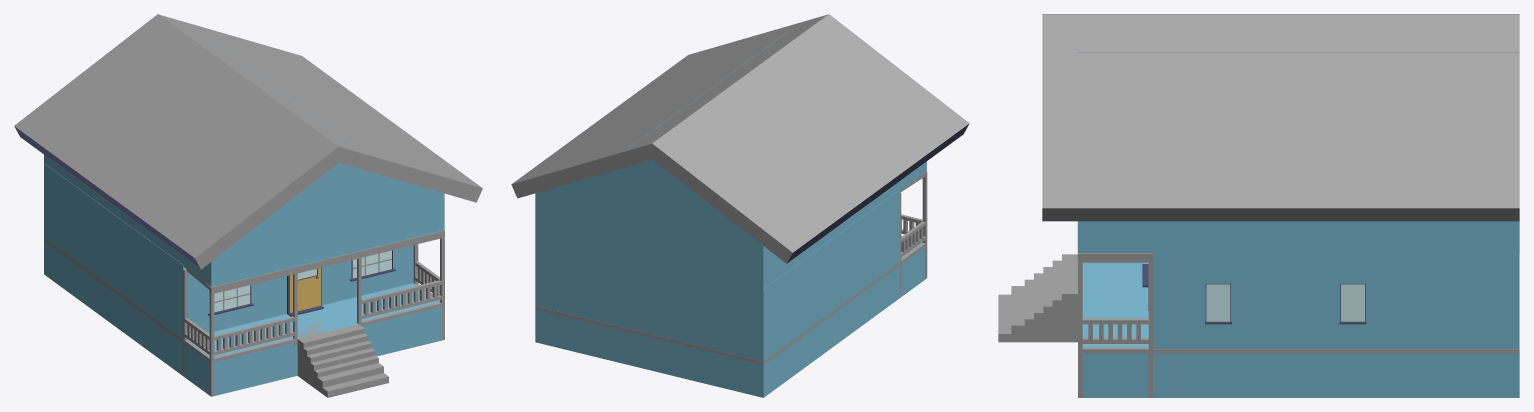
Rendered from House.fbx.
3 renders of one model, left to right at view 1: azimuth 30°, elevation 25°; view 2: azimuth 150°, elevation 25°; view 3: azimuth 270°, elevation 25°, orthographic. The views are drawn at different scales.
Visible parts, largest first — view 1: polySurface136, polySurface150, polySurface88, polySurface76, polySurface145, polySurface12, Cube_6_3, polySurface121, polySurface146, polySurface118, polySurface52, polySurface25 (+8 smaller); view 2: polySurface150, polySurface136, polySurface88, polySurface76, polySurface145, polySurface146, polySurface12; view 3: polySurface88, polySurface150, polySurface76, polySurface52, polySurface73, polySurface118, polySurface9, polySurface63, polySurface18, polySurface121, polySurface25, polySurface128 (+3 smaller).
Part boxes in pixels (x1,y1,x2,y2): polySurface136: [14, 14, 344, 269]; polySurface150: [44, 25, 444, 373]; polySurface88: [159, 14, 482, 202]; polySurface76: [44, 272, 441, 395]; polySurface145: [267, 174, 409, 218]; polySurface12: [14, 126, 200, 268]; Cube_6_3: [289, 268, 320, 312]; polySurface121: [297, 319, 364, 347]; polySurface146: [295, 168, 385, 199]; polySurface118: [297, 371, 388, 397]; polySurface52: [298, 363, 383, 393]; polySurface25: [297, 348, 375, 377]; polySurface150: [535, 32, 927, 395]; polySurface136: [652, 14, 969, 263]; polySurface88: [511, 14, 827, 198]; polySurface76: [535, 242, 925, 397]; polySurface145: [562, 178, 741, 231]; polySurface146: [582, 171, 721, 214]; polySurface12: [787, 124, 968, 262]; polySurface88: [1042, 14, 1519, 221]; polySurface150: [1077, 52, 1519, 349]; polySurface76: [1082, 262, 1519, 397]; polySurface52: [1011, 286, 1077, 342]; polySurface73: [1024, 279, 1077, 333]; polySurface118: [998, 294, 1077, 342]; polySurface9: [1206, 284, 1230, 321]; polySurface63: [1341, 284, 1364, 321]; polySurface18: [1043, 267, 1077, 323]; polySurface121: [1062, 254, 1141, 306]; polySurface25: [1034, 273, 1077, 319]; polySurface128: [1078, 347, 1149, 353].
Size of the model in its own units: 941 by 726 by 1118.
